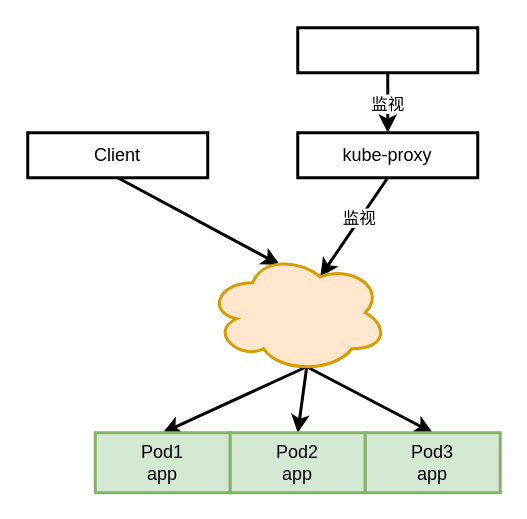
This 527x519 diagram has some shape labels left out. Each missing label, with the centre of its shape:
apiserver: pixel 387 50
clusterIP ( Virtual Server ): pixel 297 312
